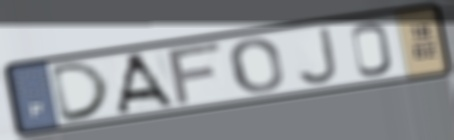0: (349, 21, 395, 79)
A: (114, 51, 178, 116)
D: (49, 59, 114, 125)
F: (165, 39, 226, 109)
J: (293, 25, 341, 87)
O: (227, 36, 286, 96)
